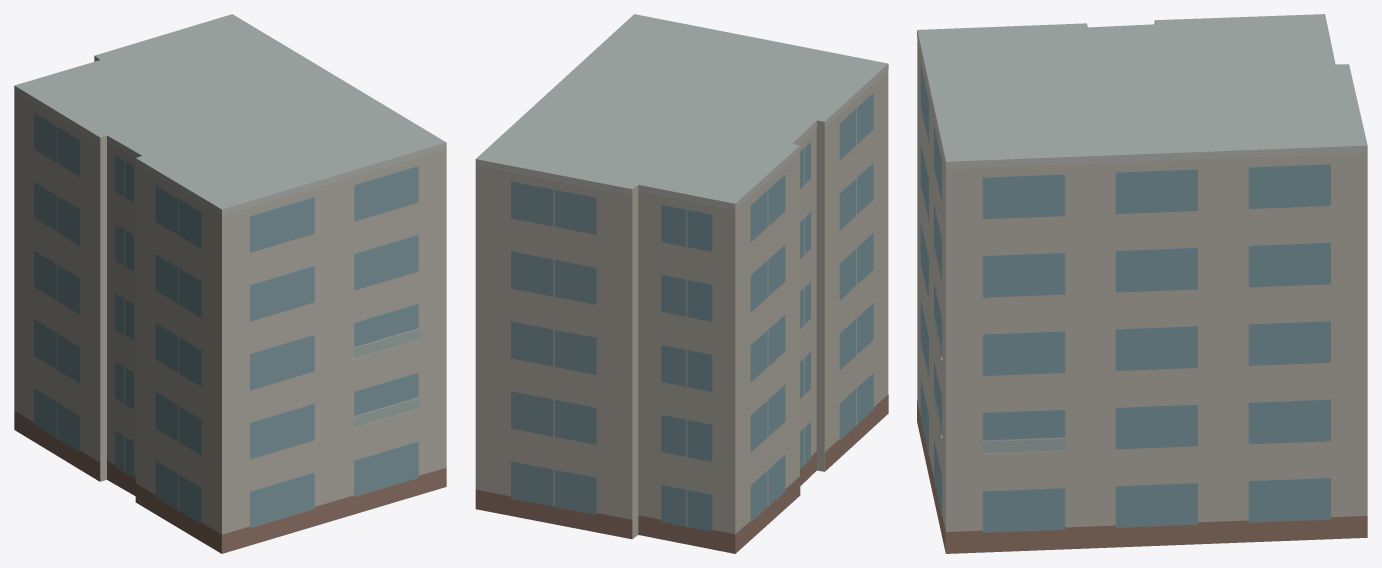
File: survey-upis-32662902.glb
3 views of the same model, side by side, from view 1: azimuth 30°, elevation 25°; view 2: azimuth 150°, elevation 25°; view 3: azimuth 270°, elevation 25° (orthographic). The views are drawn at different scales.
Visible parts, largest first — view 1: survey-upis-32662902.tmp; view 2: survey-upis-32662902.tmp; view 3: survey-upis-32662902.tmp.
Part boxes in pixels (x1,y1,x2,y2): survey-upis-32662902.tmp: (14,14,446,553); survey-upis-32662902.tmp: (475,14,888,553); survey-upis-32662902.tmp: (917,14,1367,553).
Bounding box in the file's own units: 10.59 × 13.1 × 13.65.
